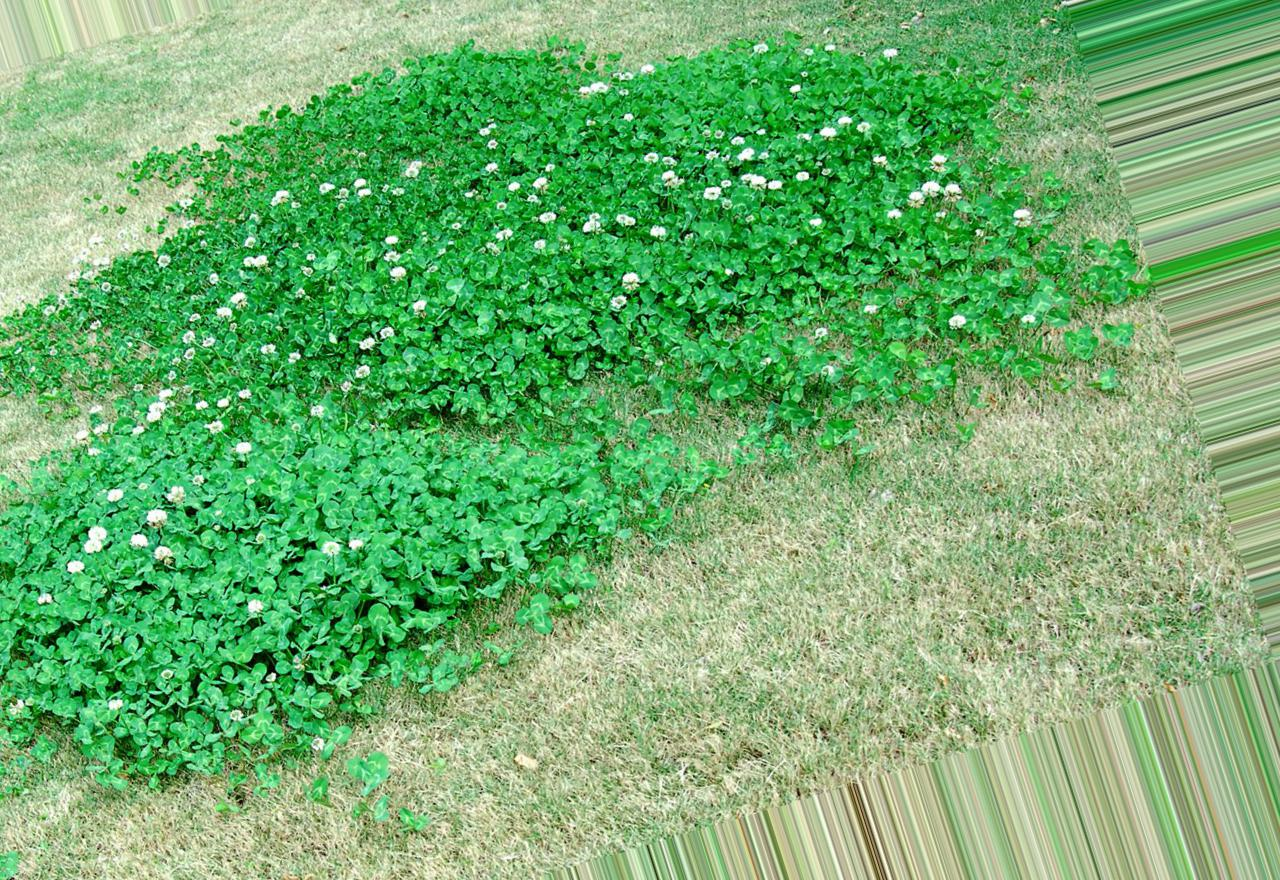patch: (797, 468, 1132, 696), (545, 682, 798, 786), (179, 793, 525, 858), (665, 572, 788, 671), (205, 21, 301, 111)
